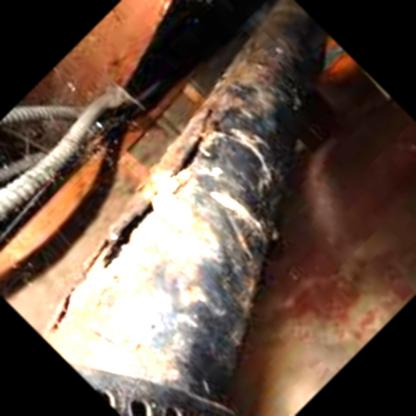burst: (100, 196, 163, 272), (164, 133, 220, 176)
